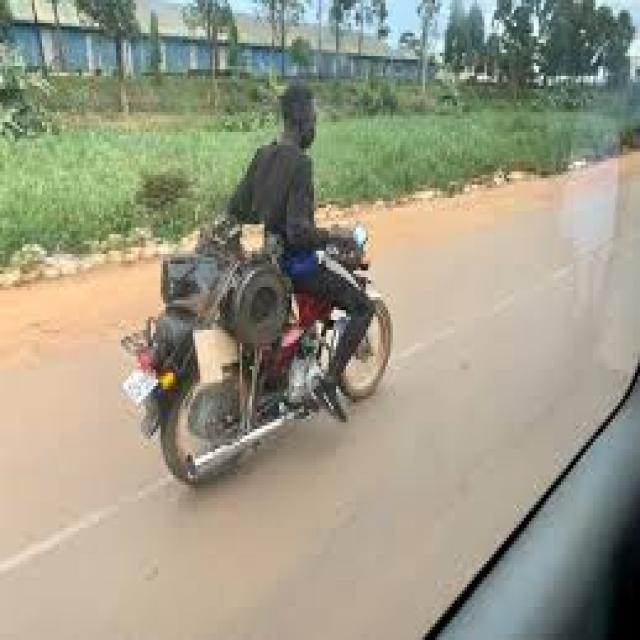bodaboda: (86, 146, 443, 510)
